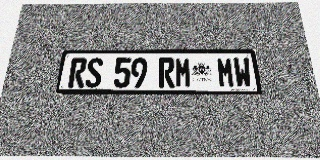5: (114, 58, 131, 88)
9: (130, 58, 147, 88)
M: (216, 58, 235, 88), (175, 58, 192, 88)
R: (68, 58, 87, 88), (159, 58, 175, 88)
S: (85, 58, 103, 88)
W: (233, 58, 253, 88)
